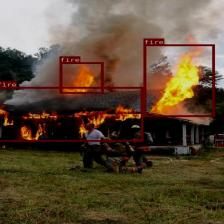fire: (0, 86, 142, 141), (143, 44, 214, 117), (59, 61, 103, 94)
